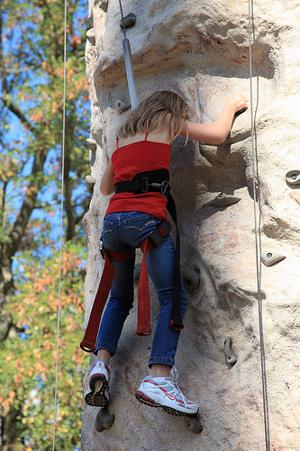person: (85, 86, 249, 419)
